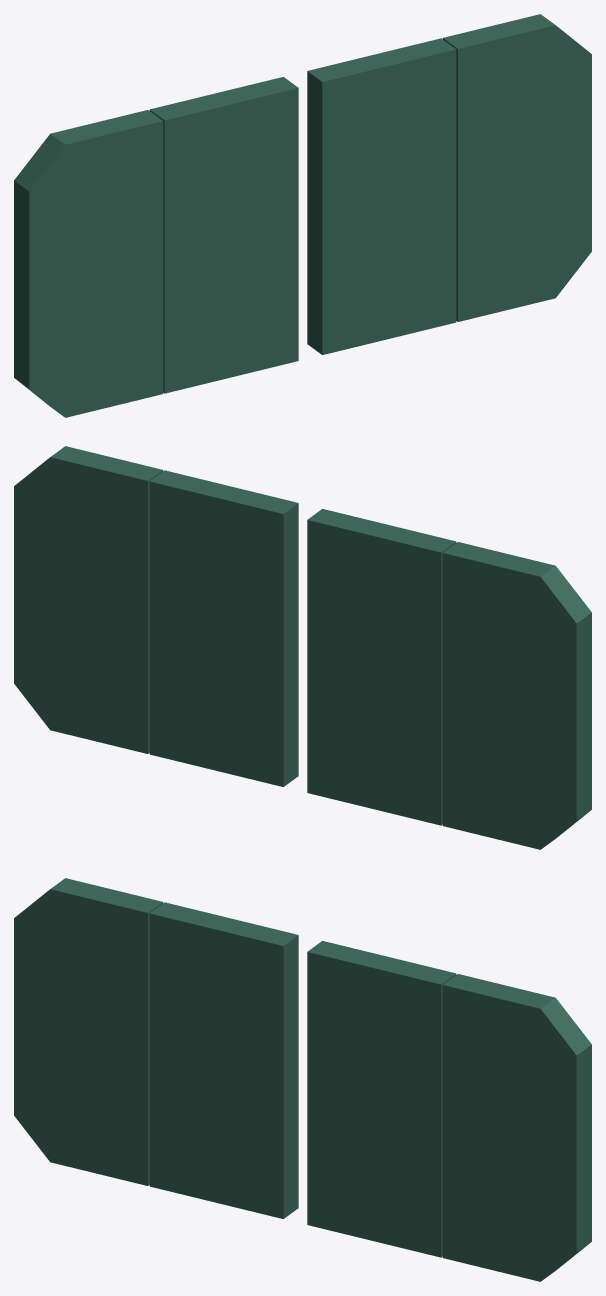
Rendered from hangar2_doors.obj.
The picture shows the model from 3 angles, top to bottom: view 1: azimuth 30°, elevation 25°; view 2: azimuth 150°, elevation 25°; view 3: azimuth 330°, elevation 25°; orthographic projection.
Visible parts, largest first — view 1: hangar2_doors; view 2: hangar2_doors; view 3: hangar2_doors.
Boxes of the visible parts, <box> form: hangar2_doors: <box>14,14,591,417</box>; hangar2_doors: <box>14,446,591,849</box>; hangar2_doors: <box>14,878,591,1281</box>.
Bounding box in the file's own units: 8.54 × 3.96 × 0.3995.
